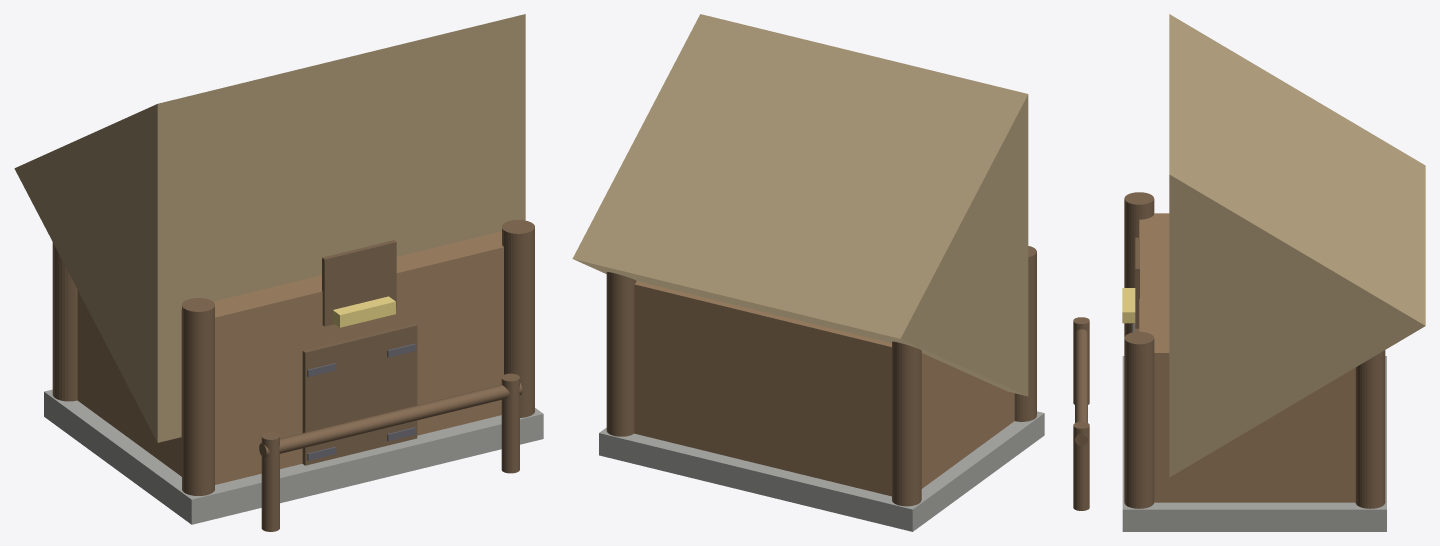
Rendered from pasture_barn.glb.
The picture shows the model from 3 angles, left to right: view 1: azimuth 30°, elevation 25°; view 2: azimuth 150°, elevation 25°; view 3: azimuth 270°, elevation 25°; orthographic projection. The views are drawn at different scales.
Visible parts, largest first — view 1: Cylinder.004, Cube.001, Cube, Cube.002, Cylinder, Cylinder.001, Cube.007, Cylinder.007, Cylinder.002, Cylinder.005, Cylinder.006, Cube.008; view 2: Cylinder.004, Cube.001, Cube, Cylinder.002, Cylinder.003, Cylinder; view 3: Cylinder.004, Cube.001, Cube, Cylinder.001, Cylinder.003, Cylinder, Cylinder.006, Cylinder.007, Cylinder.005, Cube.008, Cube.007.
Part boxes in pixels (<box>): Cylinder.004: <box>14,14,525,442</box>; Cube.001: <box>77,231,503,484</box>; Cube: <box>44,389,543,524</box>; Cube.002: <box>302,323,417,465</box>; Cylinder: <box>182,298,214,495</box>; Cylinder.001: <box>502,220,534,417</box>; Cube.007: <box>322,240,396,326</box>; Cylinder.007: <box>259,383,522,457</box>; Cylinder.002: <box>52,242,77,401</box>; Cylinder.005: <box>261,432,279,531</box>; Cylinder.006: <box>501,373,519,473</box>; Cube.008: <box>332,296,395,327</box>; Cylinder.004: <box>572,14,1028,396</box>; Cube.001: <box>634,281,1014,496</box>; Cube: <box>599,411,1044,531</box>; Cylinder.002: <box>892,341,921,506</box>; Cylinder.003: <box>606,272,636,436</box>; Cylinder: <box>1014,246,1036,421</box>; Cylinder.004: <box>1169,14,1425,477</box>; Cube.001: <box>1139,213,1355,502</box>; Cube: <box>1122,356,1386,531</box>; Cylinder.001: <box>1124,331,1154,508</box>; Cylinder.003: <box>1355,350,1385,508</box>; Cylinder: <box>1124,192,1154,337</box>; Cylinder.006: <box>1073,421,1089,510</box>; Cylinder.007: <box>1075,329,1087,445</box>; Cylinder.005: <box>1073,317,1089,404</box>; Cube.008: <box>1122,288,1135,323</box>; Cube.007: <box>1135,237,1139,328</box>.
Bounding box in the file's own units: 4.6 × 4.83 × 4.27.
